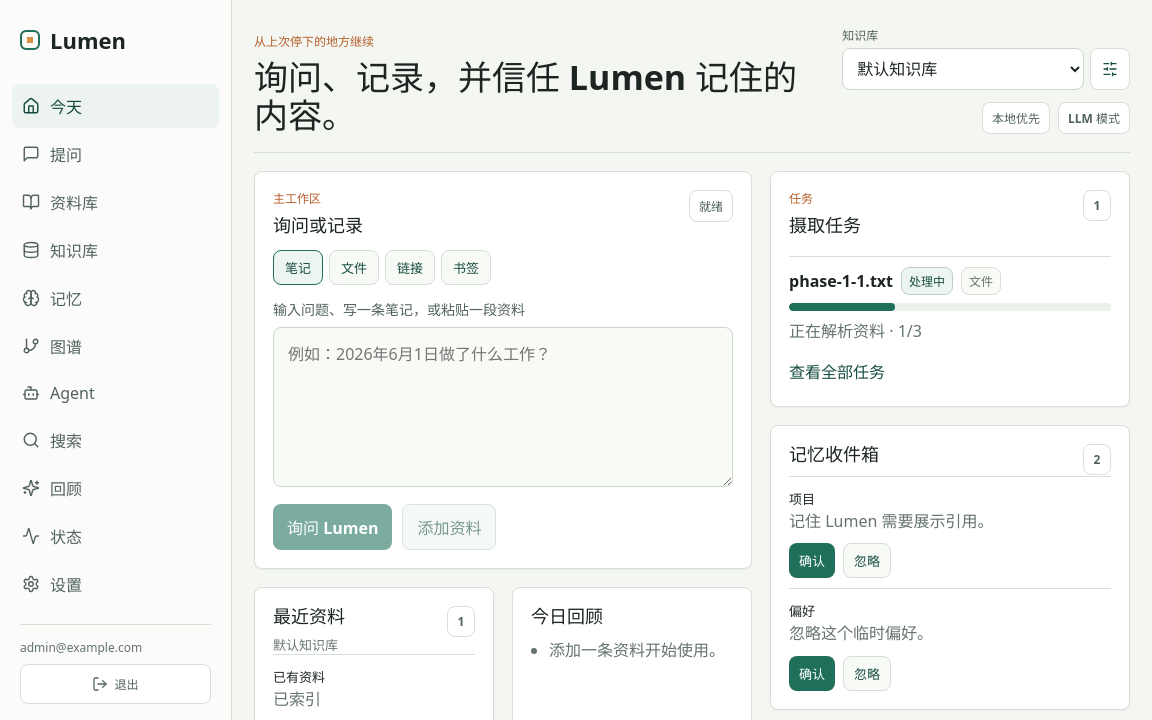
Scenario: Lumen workbench › renders the graph view and shows memory relations
The width and height of the screenshot is (1152, 720).
Click the button "图谱". click: (116, 346)
box: [12, 324, 219, 368]
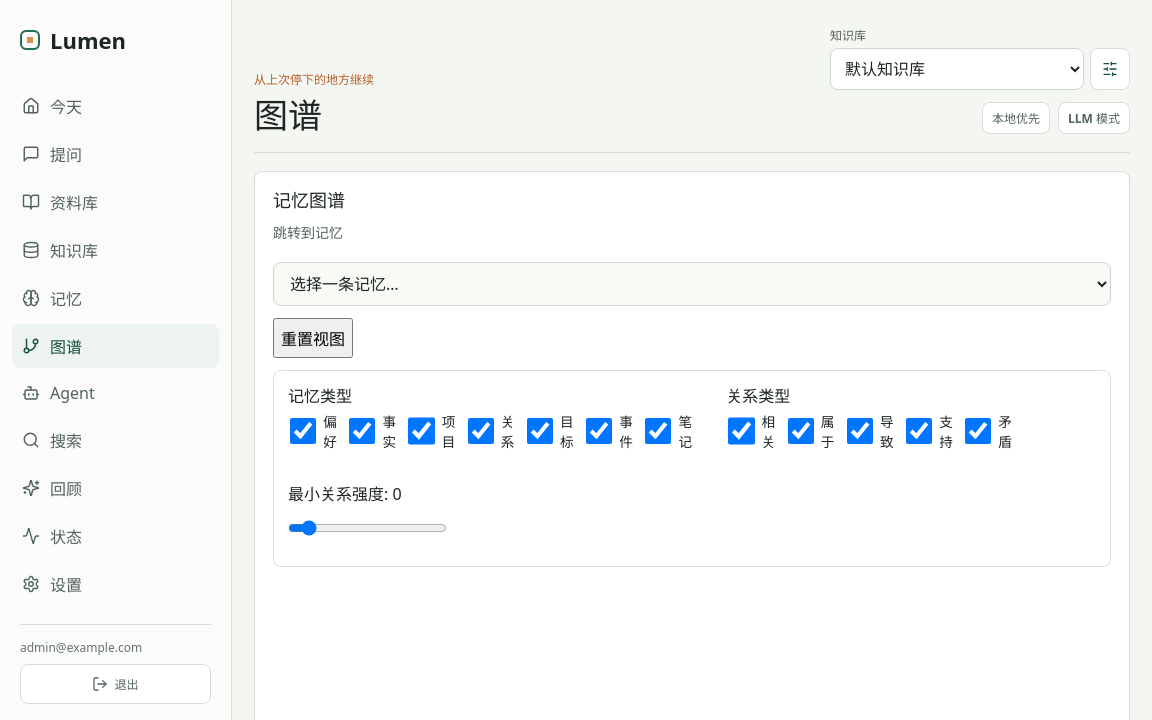
Expected: the heading "记忆图谱" is shown, [273, 190, 345, 212]
Expected: the dropdown labelled "跳转到记忆" is shown, [273, 262, 1111, 306]
